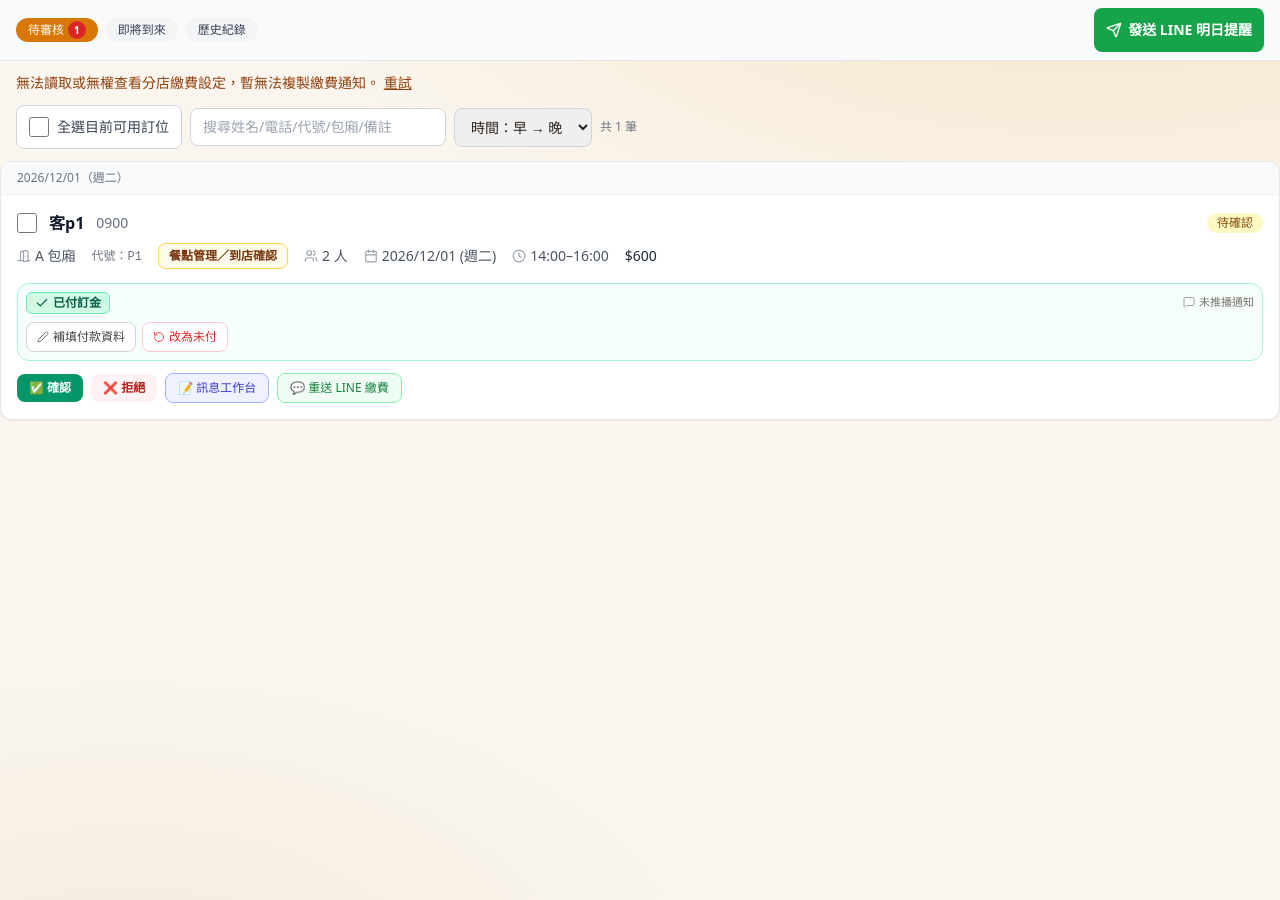
Test case: ReservationList server-scoped lists › loads only unfinished bookings first and asks for history (30 days, 50 rows) only when the tab opens
Expected: the text "P1" is shown, [128,250,142,264]
Click the button "歷史紀錄" at coordinates (222, 30), box [186,18,258,42]
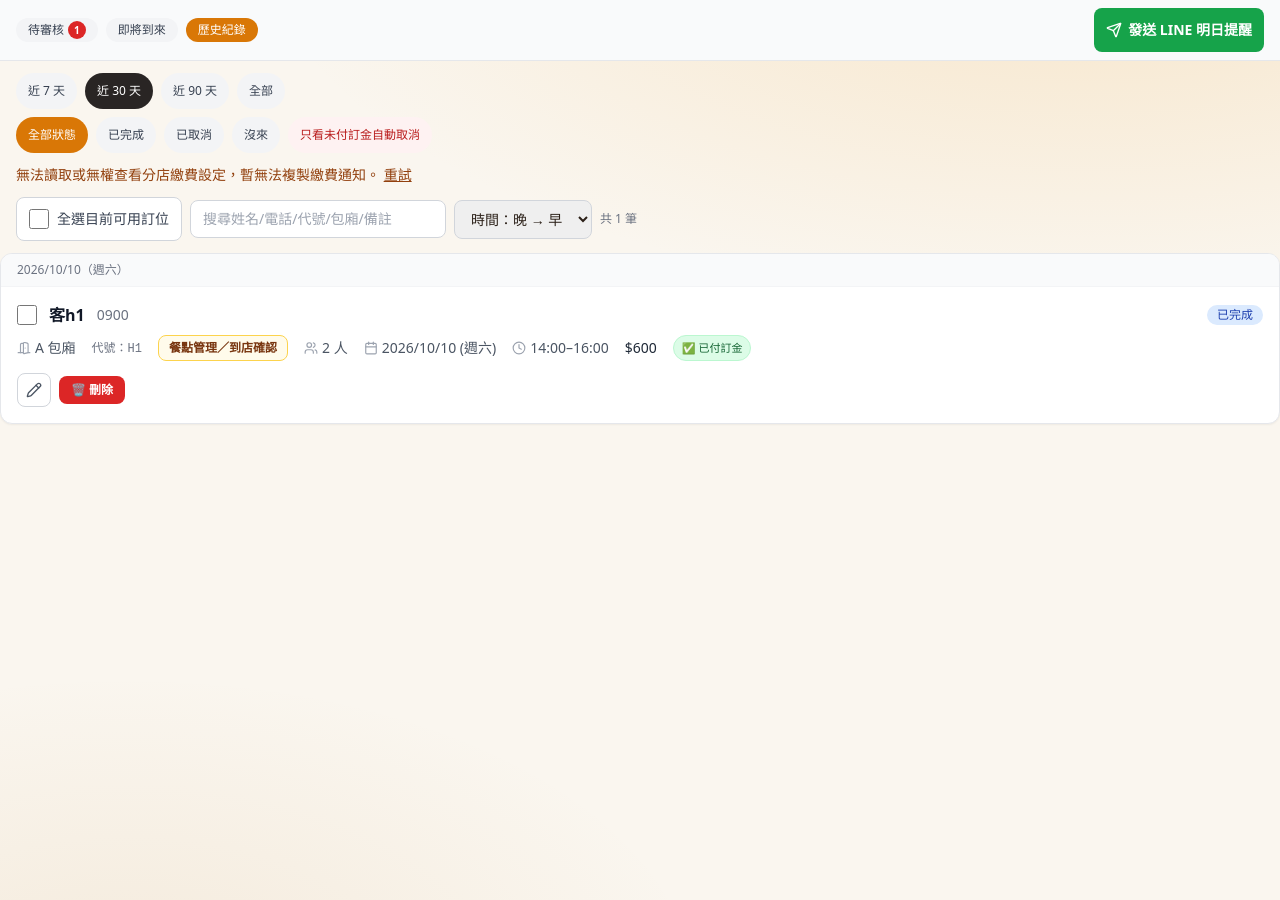
Expected: the text "H1" is shown, [128,342,142,356]
